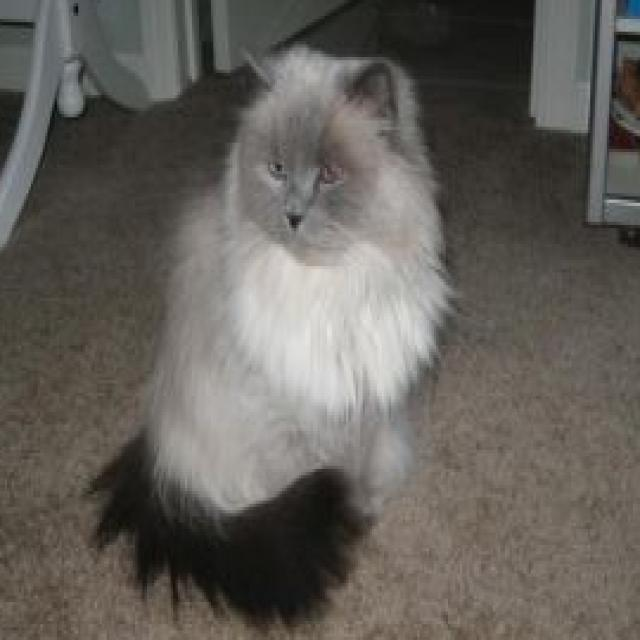Ragdoll: (78, 34, 463, 638)
